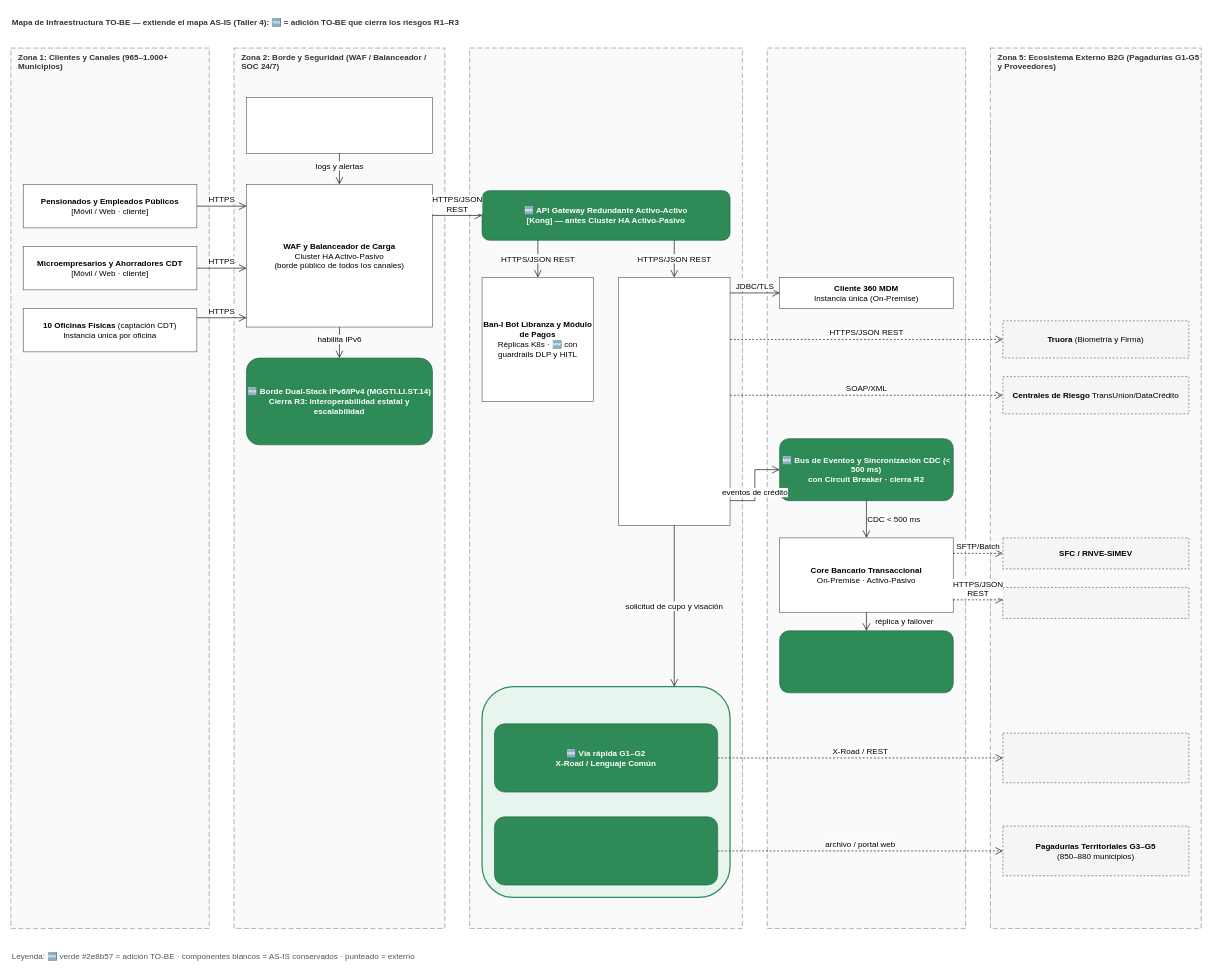
Some shapes in this 1212 by 976 pixel diagram are drawn without their labels. The shapes that lost their labels are listed below. From the top down, each one's box as (x1, y1, x2, y2) in pixels, then its label:
(246, 97, 432, 153): SOC 24/7 (Monitoreo y Ciberseguridad) Operación continua con turnos redundantes
(618, 277, 730, 525): μS Originación y Scoring Réplicas K8s (Cluster HA)
(469, 47, 742, 928): Zona 3: Nube Pública (Clúster Kubernetes — Servicios Digitales)
(767, 47, 966, 928): Zona 4: Centro de Datos On-Premise Bogotá (Core Bancario y MDM)
(1002, 587, 1189, 618): Bre-B Banco de la República
(779, 630, 953, 693): 🆕 BCP/DRP Automatizado failover y recuperación del Core
(1002, 733, 1189, 783): Pagadurías G1–G2 (Nacional y Territorial)
(481, 686, 730, 898): 🆕 Adaptador B2G de Dos Velocidades
(494, 816, 718, 885): 🆕 Vía asíncrona G3–G5 RPA/ETL + Cola + Portal Web de Autogestión
